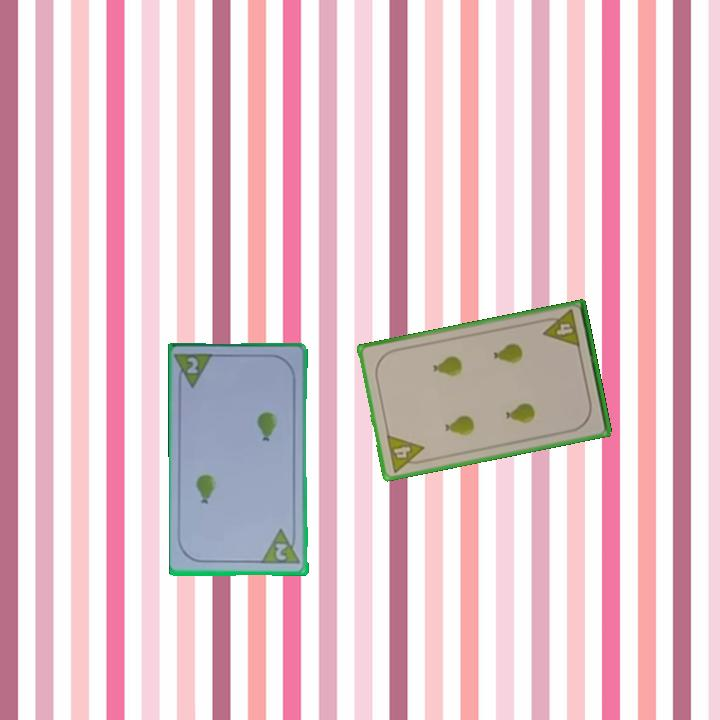2p: (173, 350, 217, 392), (260, 526, 303, 567)
4p: (383, 431, 429, 475), (538, 306, 583, 350)
